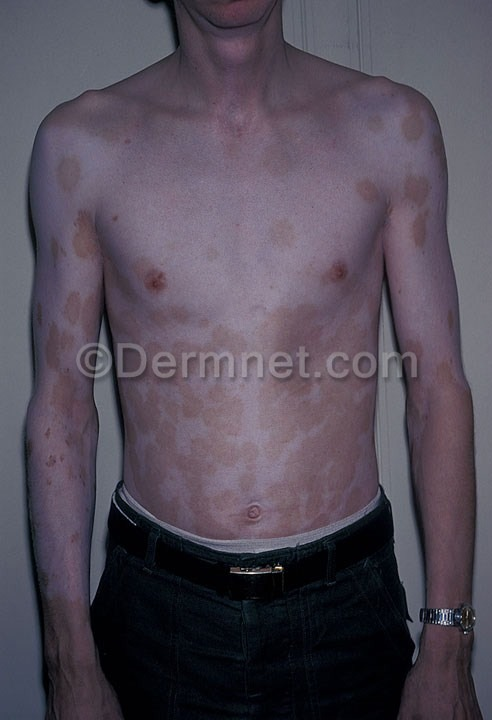Melasma: (129, 385, 380, 488), (343, 77, 458, 254), (37, 119, 118, 323), (152, 304, 347, 352), (26, 376, 98, 503), (429, 334, 464, 416)
